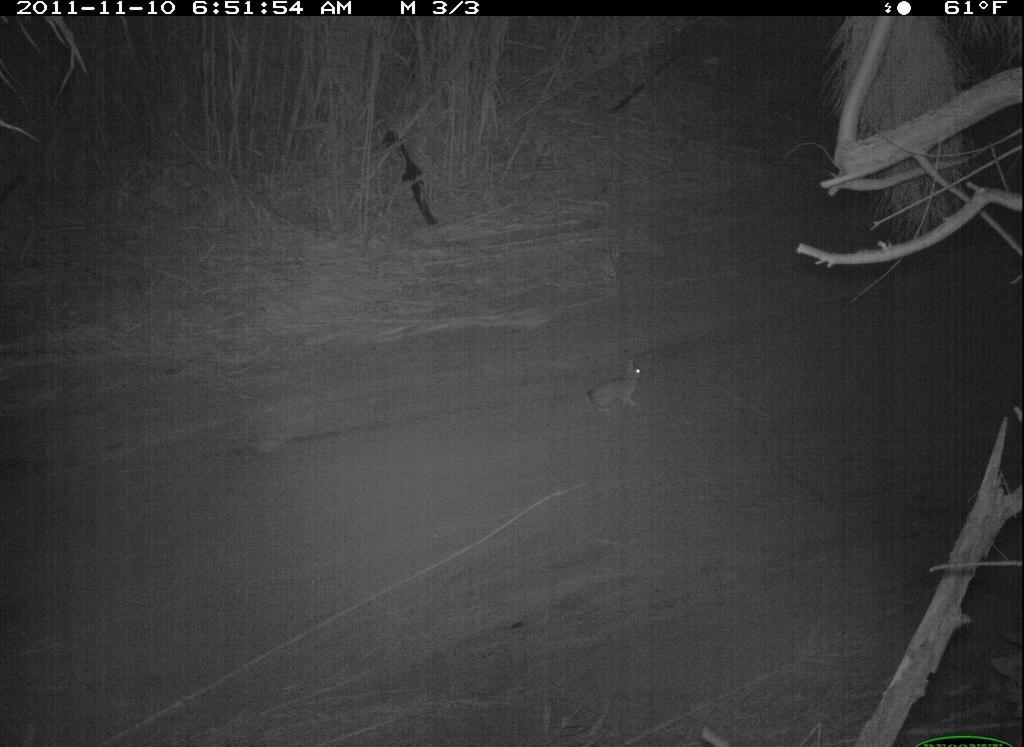rabbit: (582, 350, 675, 431)
